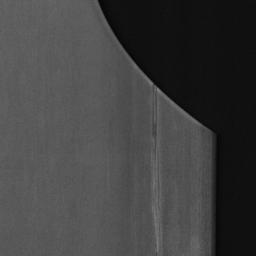Crescent gap: (99, 0, 212, 132)
